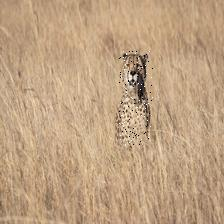Cheetha: (120, 50, 154, 145)
